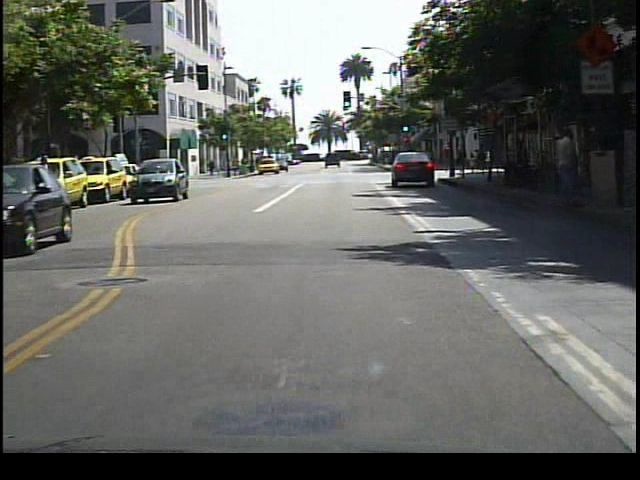person: (552, 125, 585, 214), (32, 148, 56, 215)
